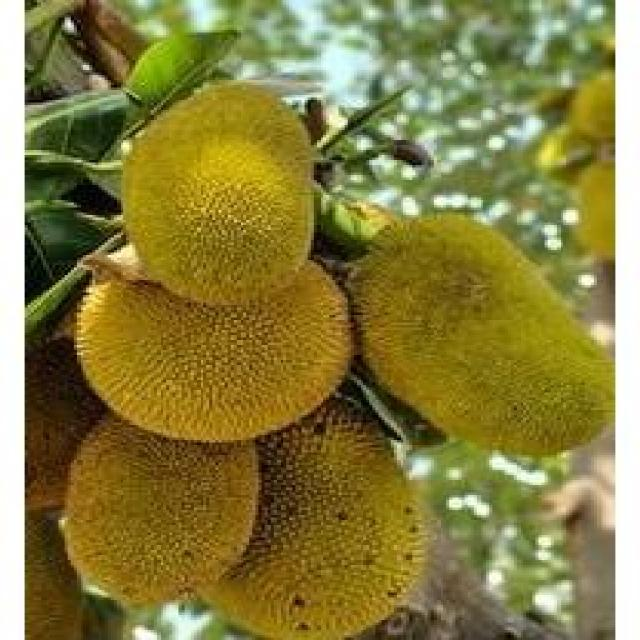Fruit: (86, 57, 366, 465), (336, 198, 616, 472), (209, 352, 471, 640)
